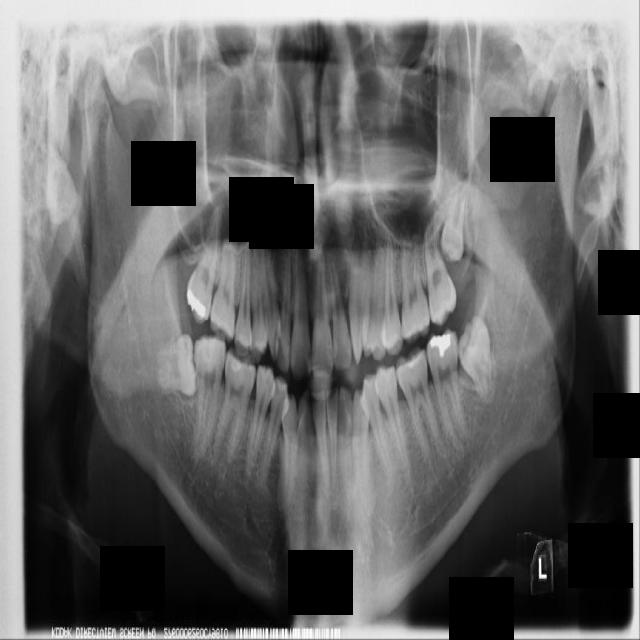52: (184, 268, 216, 327), (425, 329, 460, 379)
73: (582, 528, 584, 536)
BioHorizons Implant: (421, 209, 459, 328)
BioLife Implant: (439, 169, 471, 265)
Biomet 3i Implant: (455, 314, 498, 402)
Blue Sky Bio Implant: (422, 325, 476, 446)
Caries: (179, 203, 228, 328)
Implant: (191, 332, 227, 453)
Keystone Dental Implant: (156, 333, 200, 400)
